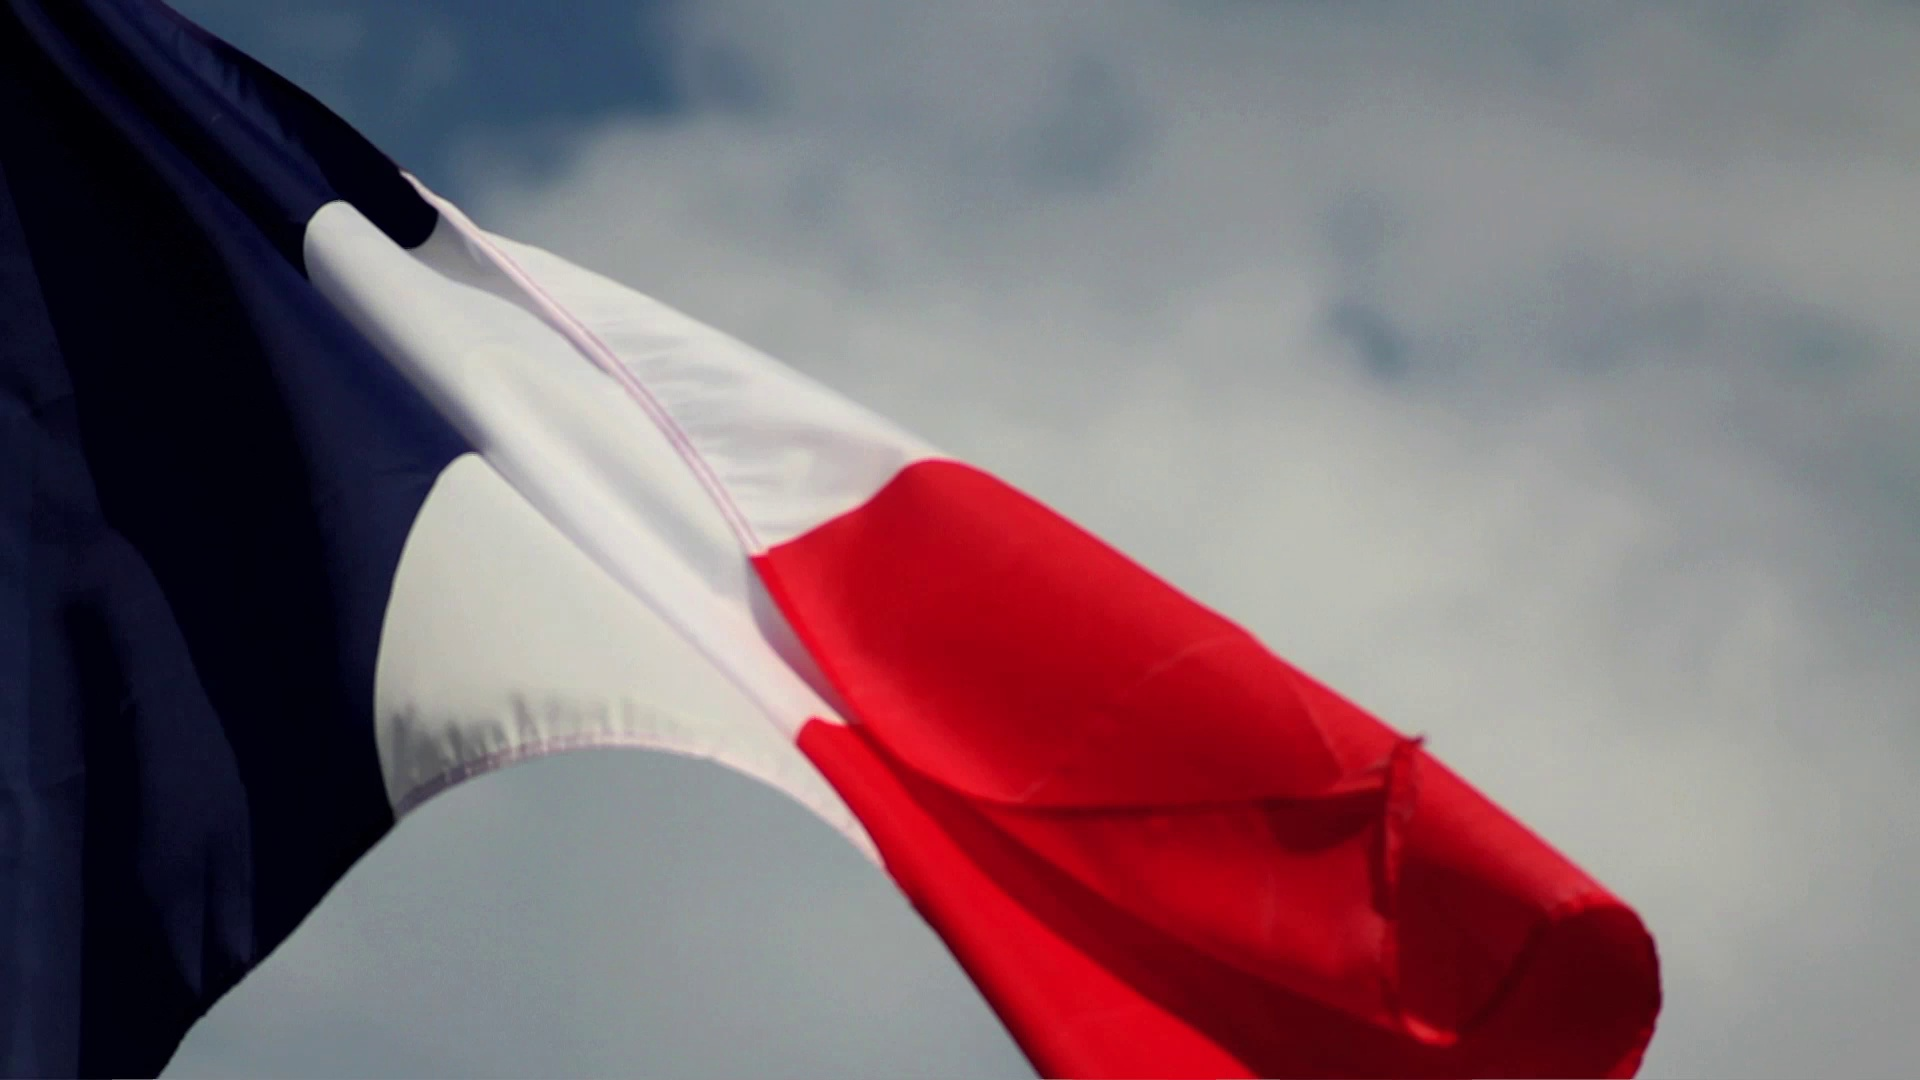French Flag: (1, 1, 1662, 1080)
